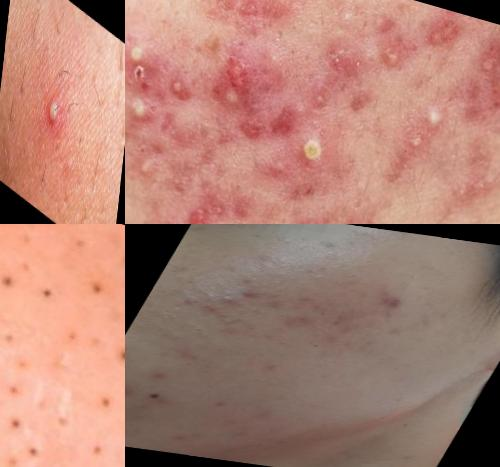acne_scars: (259, 101, 307, 153), (427, 15, 468, 65), (186, 187, 238, 225), (152, 104, 189, 151), (474, 67, 500, 127), (235, 1, 265, 27), (290, 215, 340, 225)
blackhead: (1, 362, 49, 449), (1, 410, 74, 467), (1, 225, 47, 310), (22, 264, 75, 319), (72, 266, 121, 309), (87, 381, 126, 420), (77, 433, 117, 467), (101, 337, 126, 377), (114, 286, 126, 335)
folliculitis: (42, 84, 67, 147)
papular: (368, 293, 414, 317)
purulent: (290, 125, 342, 180), (126, 87, 160, 135), (126, 30, 154, 76), (417, 102, 453, 137), (402, 127, 437, 160)
sebo-crystan-conglo: (201, 57, 258, 131)
whitehead: (215, 291, 255, 308), (199, 288, 223, 308)
